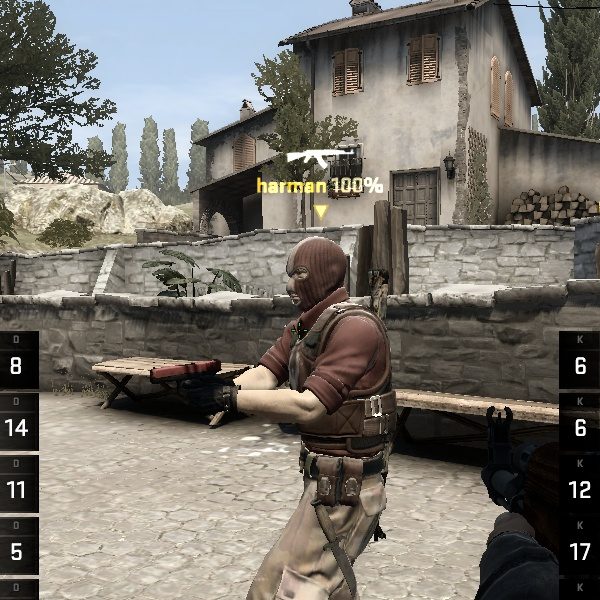t_body: (215, 220, 427, 577)
t_head: (264, 223, 372, 328)
